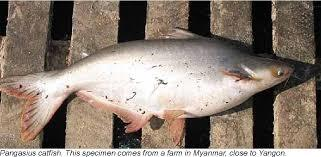Pangasius: (0, 28, 296, 145)
